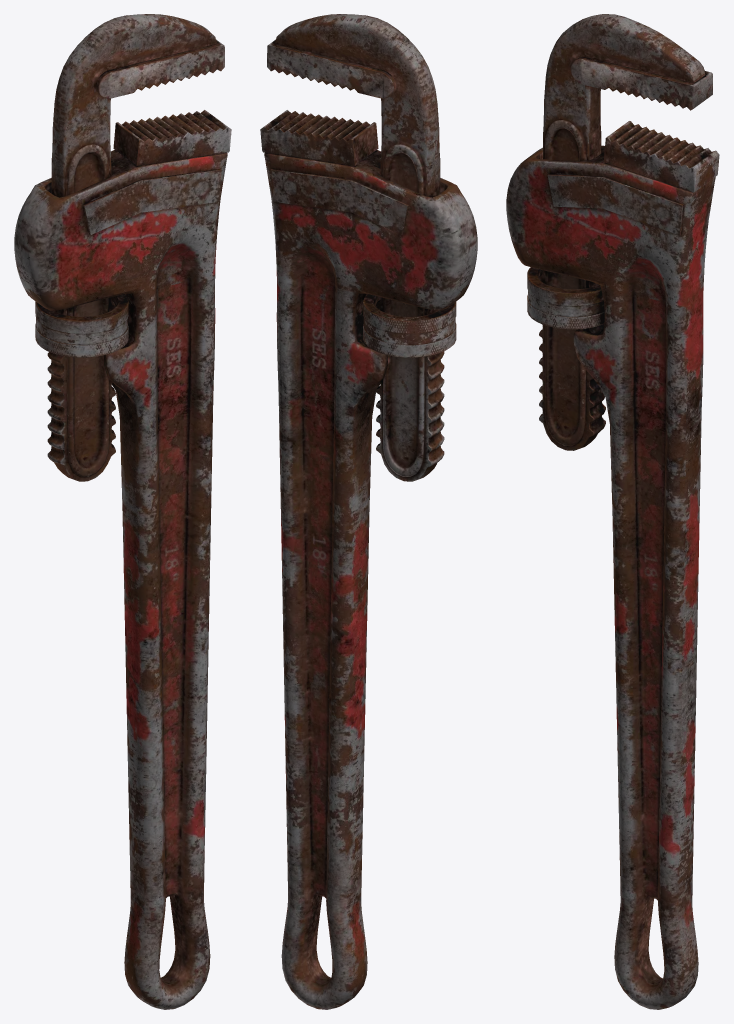
The model's file is ph_pipe_wrench.glb.
3 views of the same model, side by side, from view 1: azimuth 30°, elevation 25°; view 2: azimuth 150°, elevation 25°; view 3: azimuth 330°, elevation 25° (orthographic).
Parts seen in each view (by area): view 1: pipe_wrench; view 2: pipe_wrench; view 3: pipe_wrench.
Part boxes in pixels (x1=…): pipe_wrench: x1=14, y1=14, x2=231, y2=1009; pipe_wrench: x1=260, y1=14, x2=477, y2=1009; pipe_wrench: x1=506, y1=14, x2=719, y2=1009.
Bounding box in the file's own units: 0.084 × 0.4047 × 0.0343.
1 material, 1 textured.
